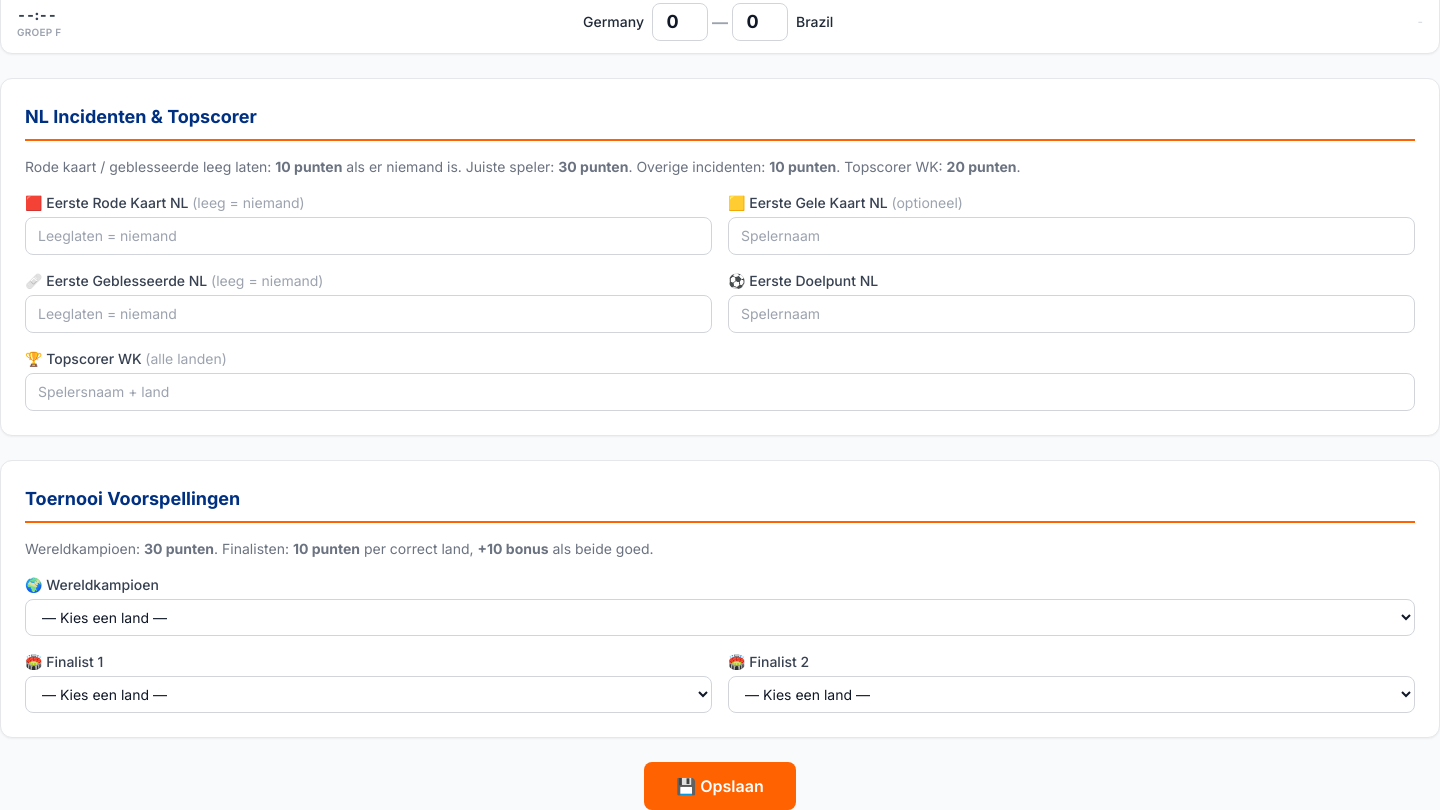
Scenario: WkPouleForm › Opslaan shows "Opgeslagen" on success
(page scrolled)
Click the button "💾 Opslaan" at (720, 786), box [644,762,796,809]
(page scrolled)
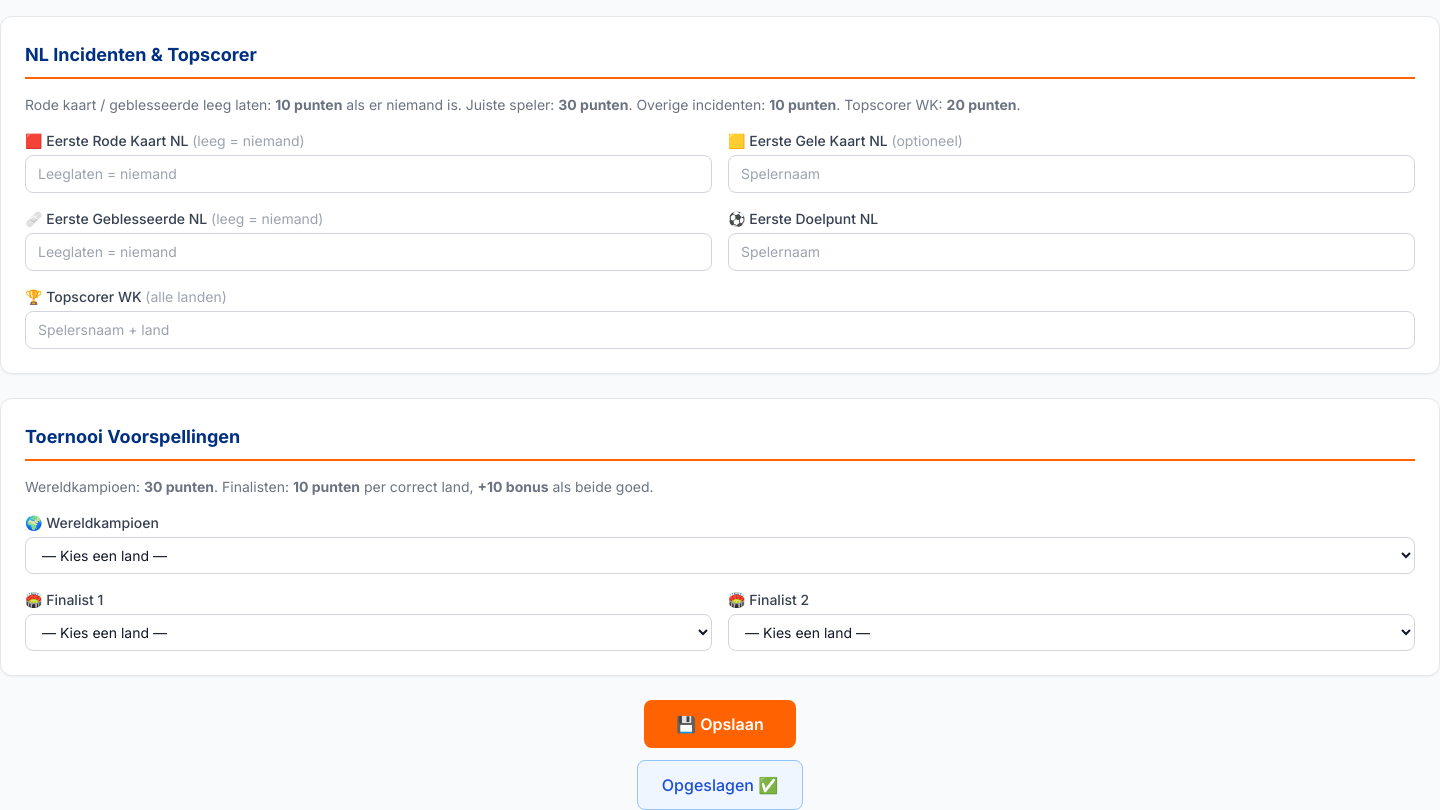
Expected: the text "Opgeslagen ✅" is shown, [637,760,803,809]
